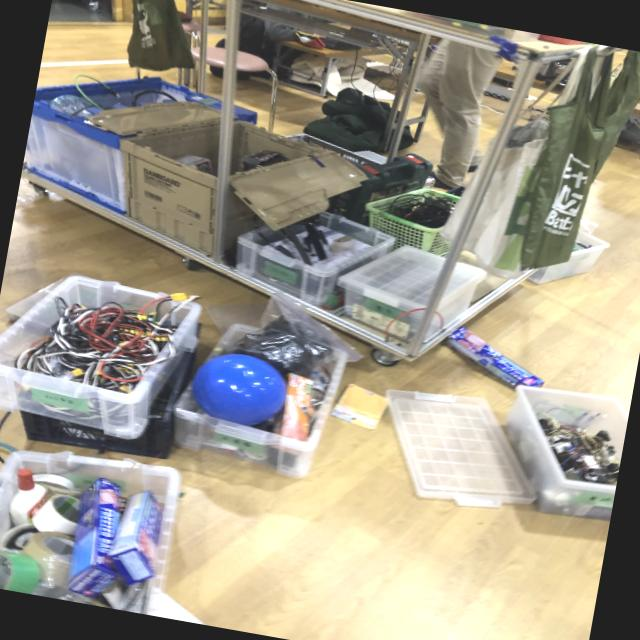blue_ball: (188, 346, 292, 430)
